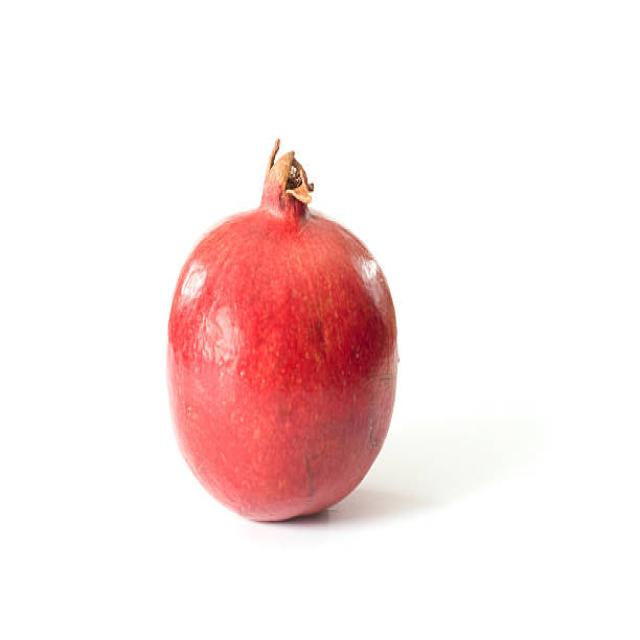Ripe: (164, 129, 403, 526)
